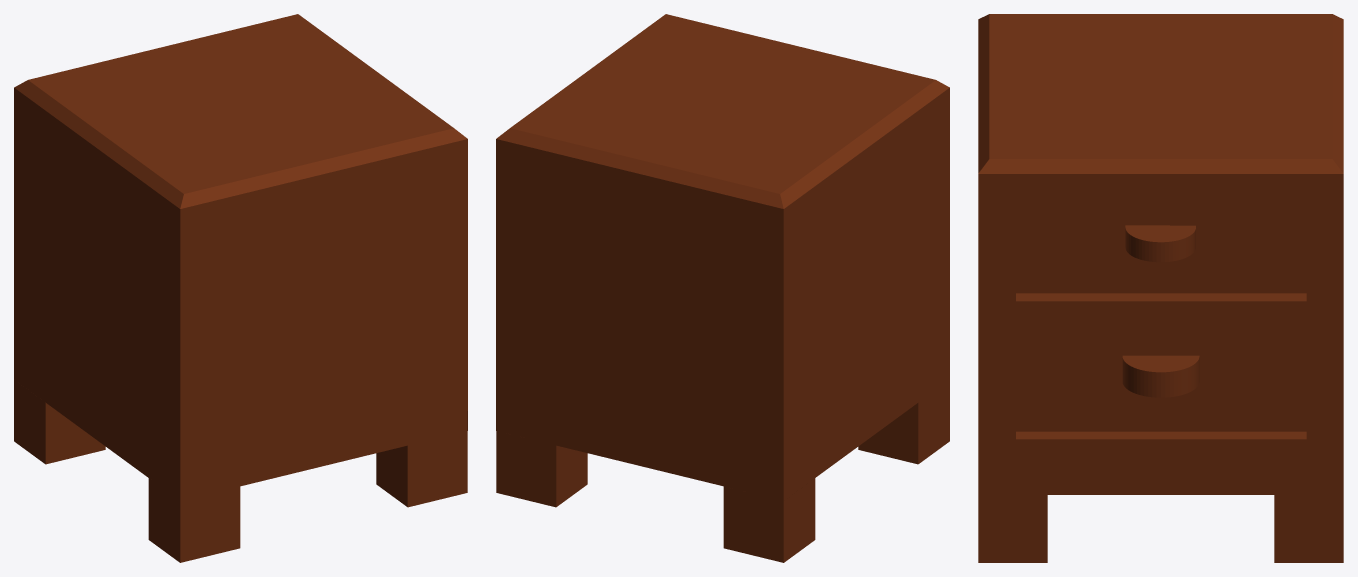
Rendered from nightstandEnvironmental.fbx.
3 renders of one model, left to right at view 1: azimuth 30°, elevation 25°; view 2: azimuth 150°, elevation 25°; view 3: azimuth 270°, elevation 25°, orthographic. The views are drawn at different scales.
Visible parts, largest first — view 1: Cube; view 2: Cube; view 3: Cube.
Boxes of the visible parts, x1,y1,x2,y2 form: Cube: (14, 14, 467, 562); Cube: (496, 14, 949, 562); Cube: (978, 14, 1343, 562).
Size of the model in its own units: 625 by 713 by 592.
